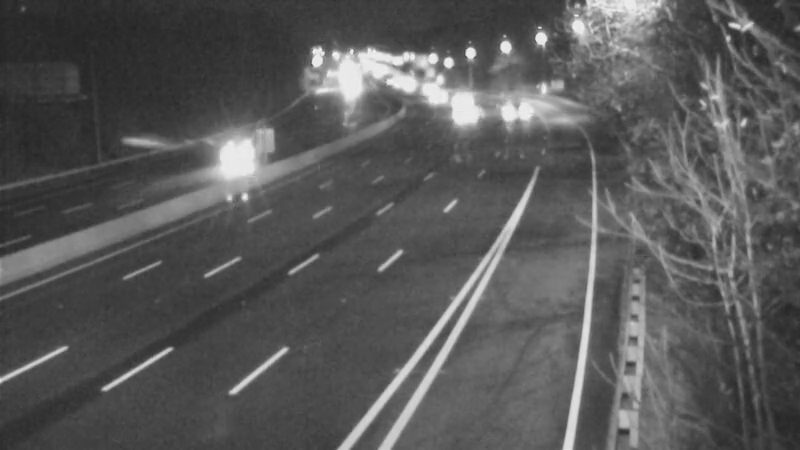vehicle: (194, 116, 274, 196), (406, 63, 456, 113), (403, 73, 453, 123), (433, 74, 483, 124), (438, 92, 488, 142), (480, 87, 530, 137)
